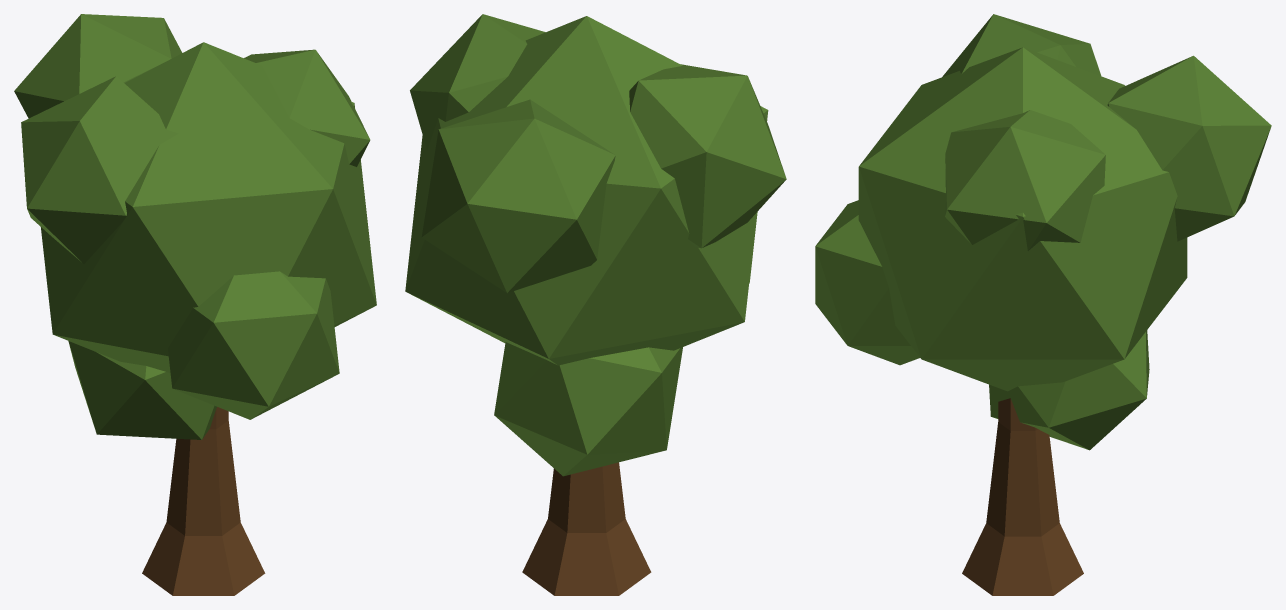
File: Tree5.fbx
3 renders of one model, left to right at view 1: azimuth 30°, elevation 25°; view 2: azimuth 150°, elevation 25°; view 3: azimuth 270°, elevation 25°, orthographic. The views are drawn at different scales.
Visible parts, largest first — view 1: Cylinder.002; view 2: Cylinder.002; view 3: Cylinder.002.
Boxes of the visible parts, <box> form: Cylinder.002: <box>14,14,376,595</box>; Cylinder.002: <box>405,14,786,595</box>; Cylinder.002: <box>815,14,1271,595</box>.
Size of the model in its own units: 4.66 by 6.94 by 5.45.
